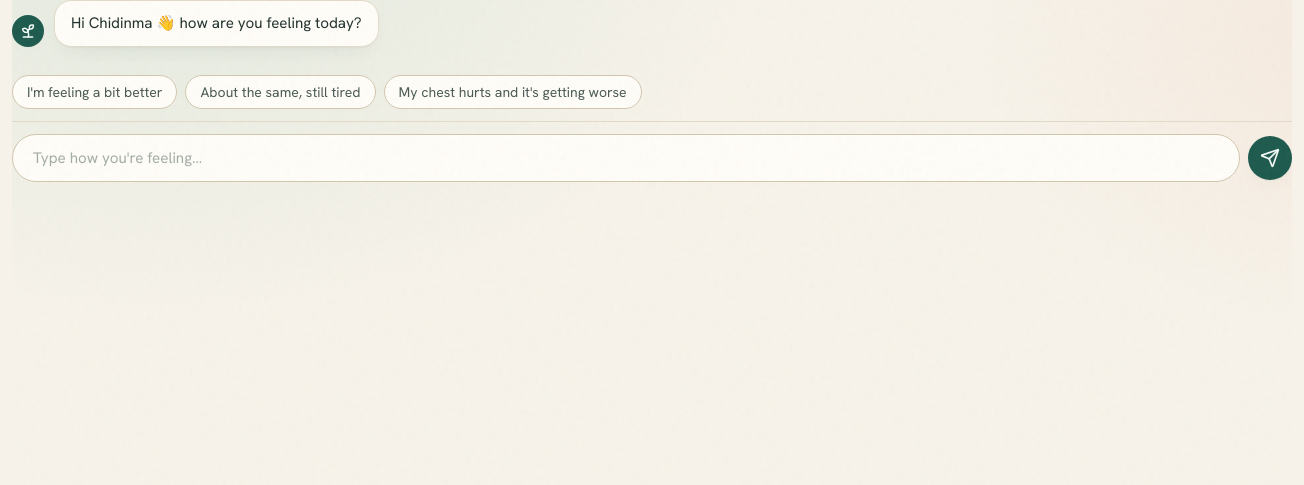
Test: CompanionChat escalation › escalates on a red-flag quick reply, hides the composer, offers a new check-in
The image size is (1304, 485).
Click the button "My chest hurts and it's getting worse" at (513, 92), box x1=384 y1=75 x2=642 y2=109
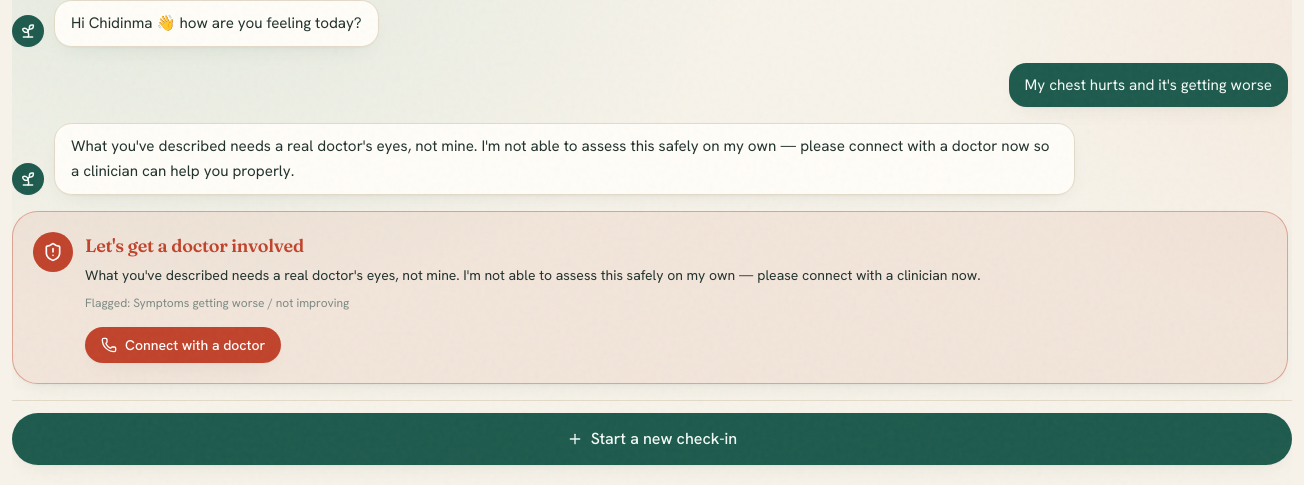
expect the heading "Let's get a doctor involved" is shown: met, box x1=85 y1=234 x2=304 y2=257
expect the link "Connect with a doctor" is shown: met, box x1=85 y1=327 x2=281 y2=363
expect the button "Start a new check-in" is shown: met, box x1=12 y1=413 x2=1292 y2=465
